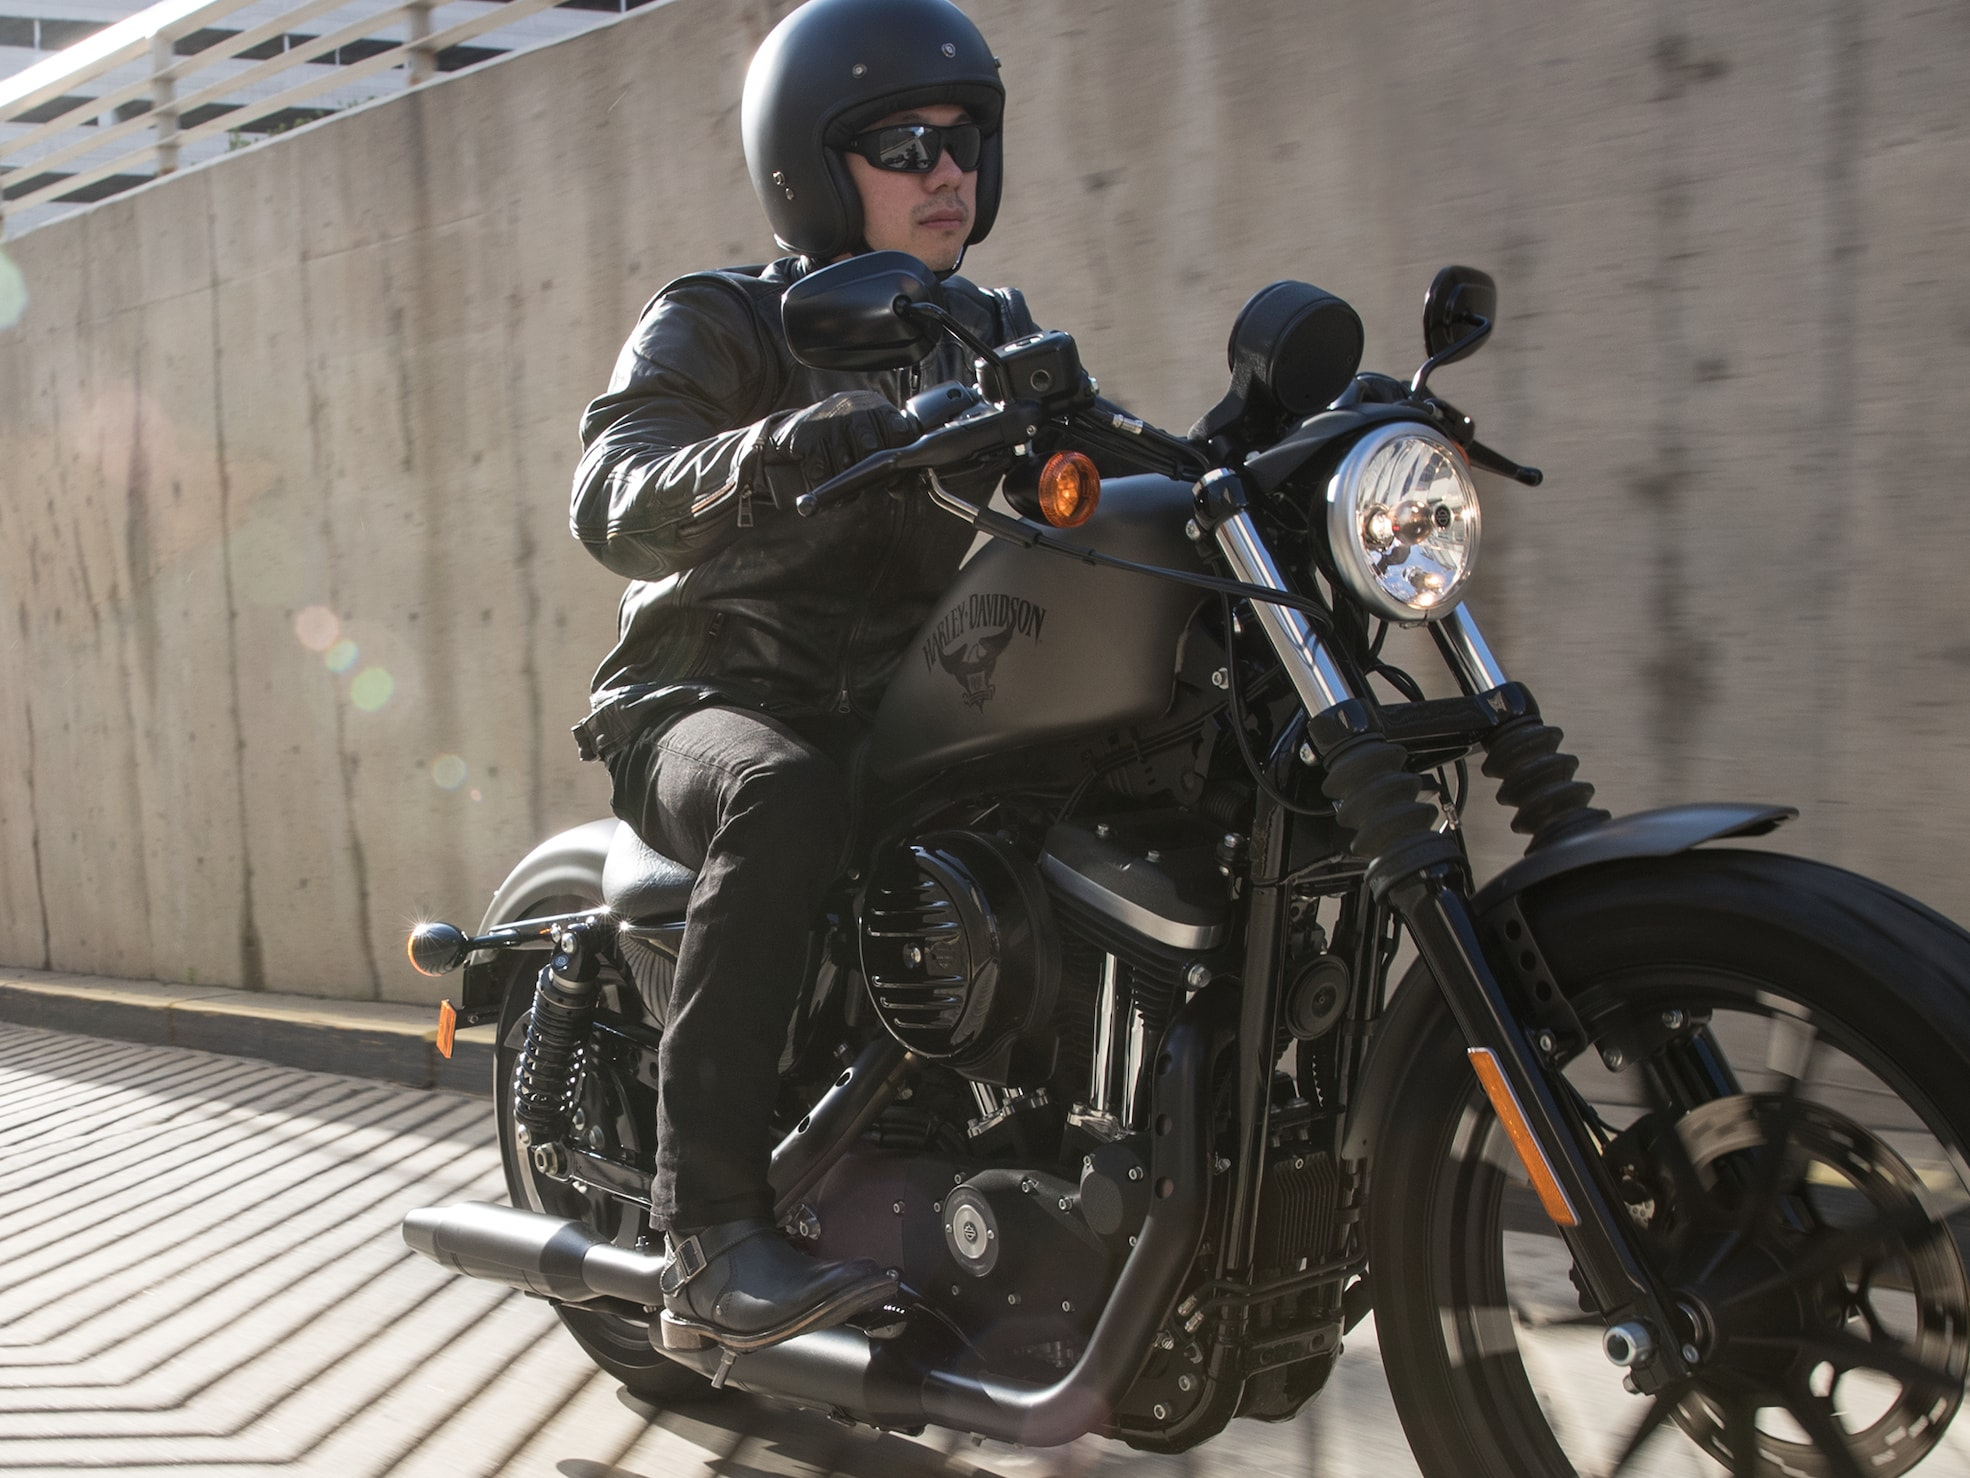helmet: (731, 9, 1582, 918)
